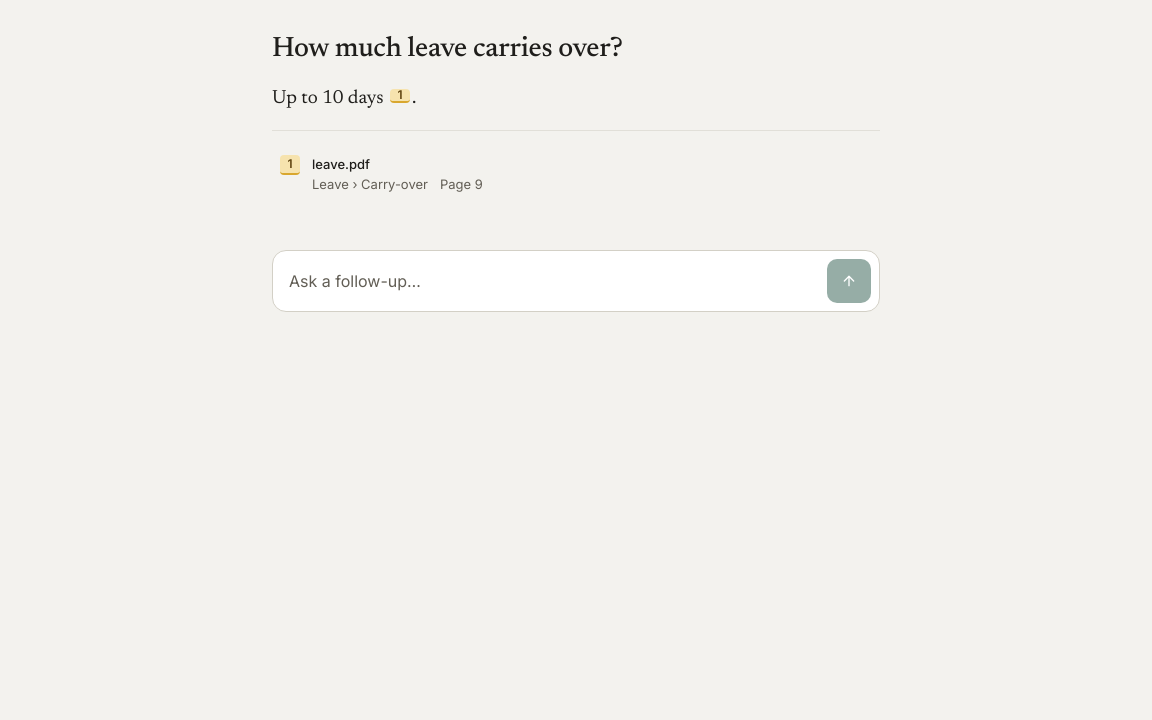
Test: The source of a Citation › opens beside the answer on wide screens, highlighted in context, and closes with Escape
This screenshot has width=1152, height=720.
Click the button named "Source 1, leave.pdf, page 9" at point(400, 96), box [390, 89, 410, 103]
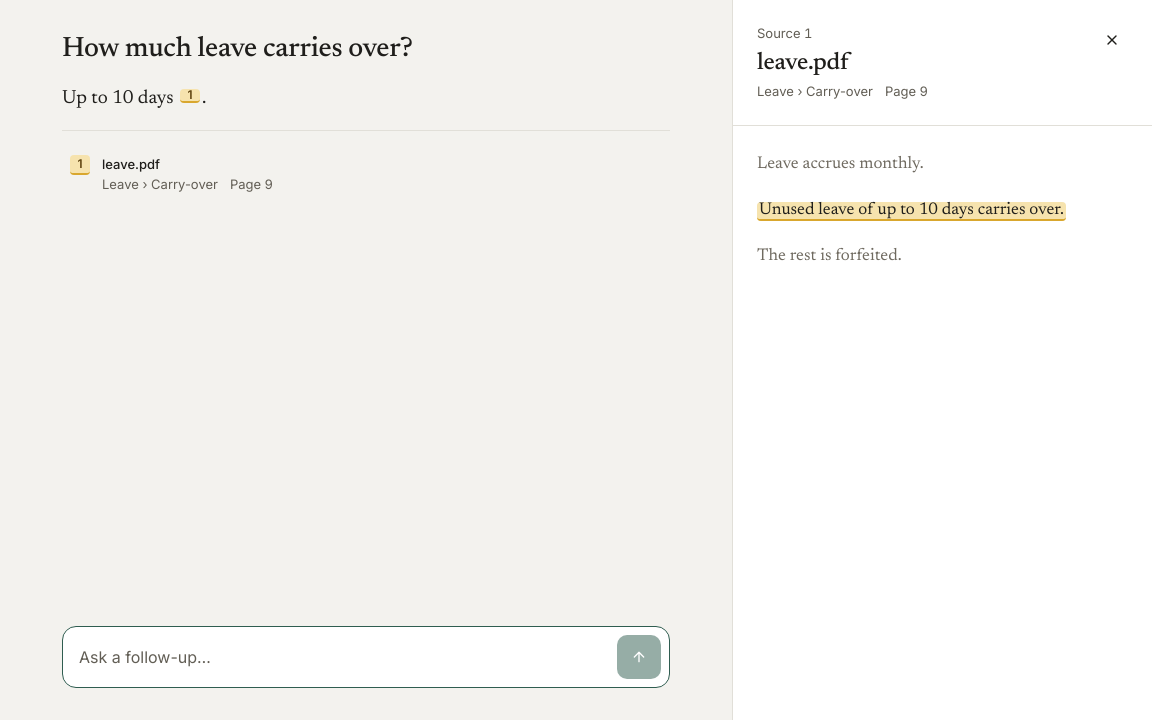
Expected: the text "Unused leave of up to 10 days carries over." is shown, [757, 202, 1066, 221]
Expected: the text "Leave accrues monthly." is shown, [757, 156, 924, 173]
Expected: the text "The rest is forfeited." is shown, [757, 248, 902, 264]
Press Escape
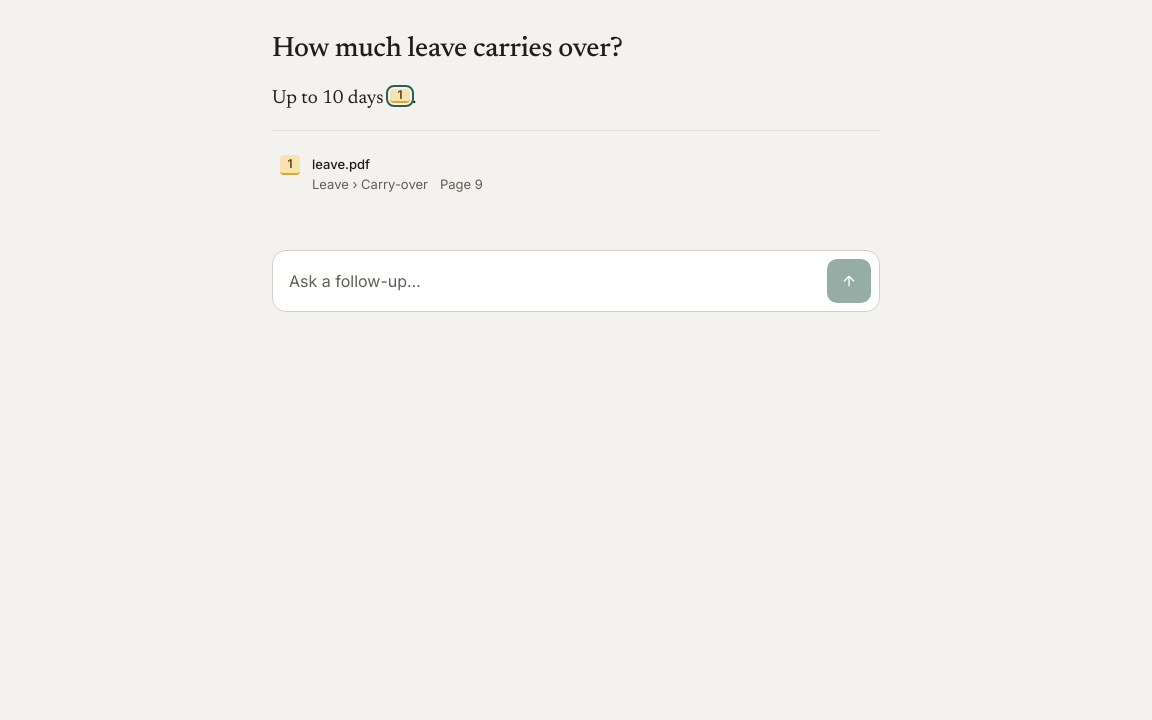
Expected: the text "Source" is gone
